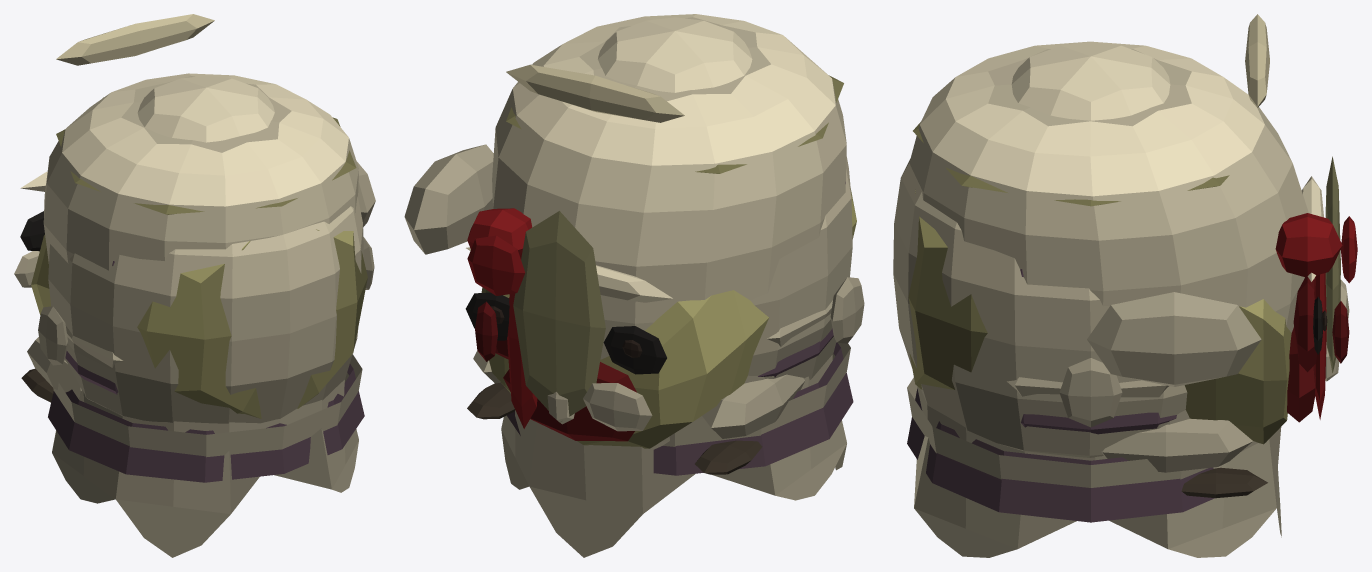
The model's file is skeleton_hi.glb.
3 views of the same model, side by side, from view 1: azimuth 30°, elevation 25°; view 2: azimuth 150°, elevation 25°; view 3: azimuth 270°, elevation 25° (orthographic). The views are drawn at different scales.
Visible parts, largest first — view 1: torso, head, footR, shinR, uArmDeltR, uArmR, headJaw, handR, hips; view 2: torso, head, handR, footR, uArmDeltR, headJaw, shinR, uArmR, fArmR, torsoBelly, hips; view 3: torso, head, handR, footR, shinR, uArmDeltR, uArmR, torsoBelly, hips, headJaw, fArmR, thighR.
Part boxes in pixels (x1,y1,x2,y2): torso: (14,73,358,557); head: (20,171,374,423); footR: (31,229,367,418); shinR: (48,364,364,482); uArmDeltR: (137,75,274,142); uArmR: (53,354,362,457); headJaw: (56,14,214,65); handR: (21,161,375,402); hips: (56,117,356,394); torso: (467,14,846,557); head: (465,156,864,424); handR: (404,144,832,474); footR: (481,188,856,448); uArmDeltR: (598,17,752,92); headJaw: (506,64,684,428); shinR: (507,342,853,475); uArmR: (663,343,850,446); fArmR: (503,362,636,441); torsoBelly: (467,208,532,255); hips: (506,64,845,377); torso: (909,41,1357,557); head: (893,159,1339,457); handR: (1007,292,1267,498); footR: (908,190,1291,444); shinR: (907,388,1214,522); uArmDeltR: (1011,42,1170,120); uArmR: (907,377,1207,487); torsoBelly: (1275,213,1342,278); hips: (913,122,1229,434); headJaw: (1245,14,1326,419); fArmR: (1287,327,1315,422); thighR: (1293,277,1316,372).
Size of the model in its own units: 1.13 by 1.31 by 1.12.
